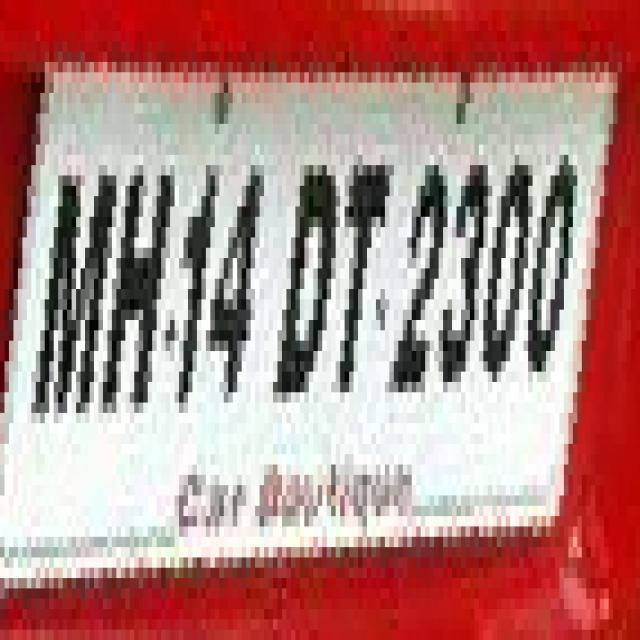license_plate: (13, 93, 591, 526)
